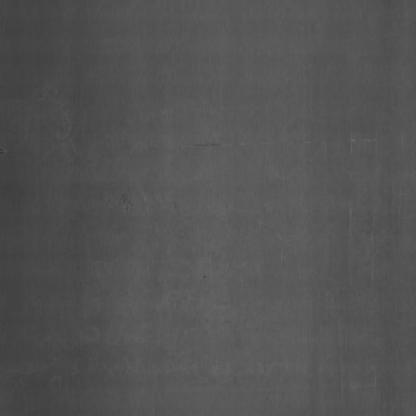silk_spot: (34, 69, 134, 246)
